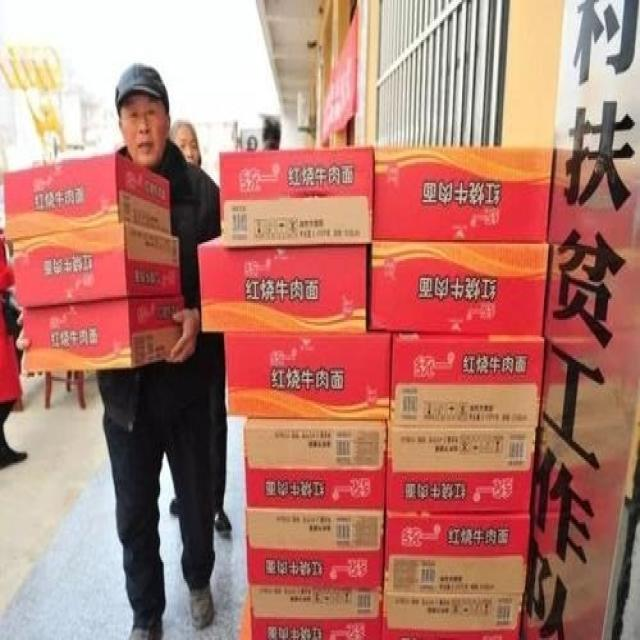box: (372, 147, 553, 244), (369, 242, 549, 335), (198, 236, 367, 333), (220, 145, 374, 246), (3, 152, 173, 242), (390, 333, 544, 429), (224, 333, 390, 419), (13, 225, 182, 307), (244, 417, 387, 510), (387, 425, 539, 510), (23, 299, 184, 375), (384, 512, 530, 594), (246, 512, 384, 590), (381, 590, 525, 640), (248, 589, 381, 640)
